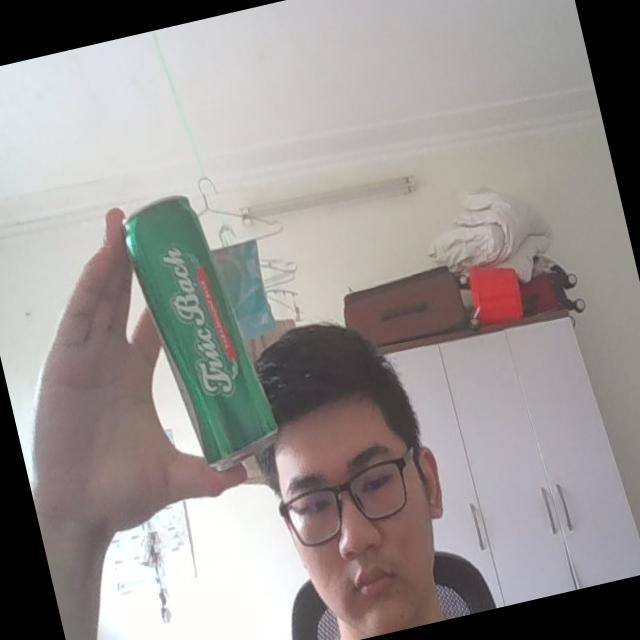Bia-Truc-Bach: (111, 178, 288, 486)
